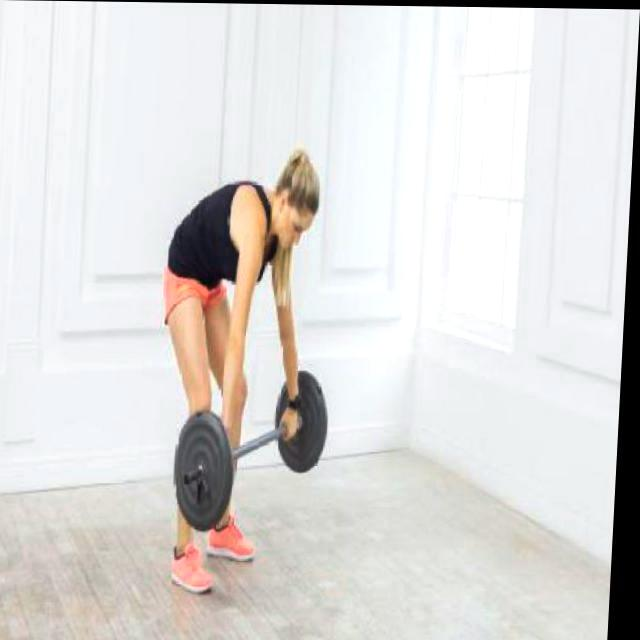barbell: (172, 409, 242, 532)
